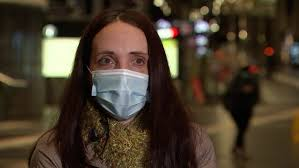FaceMask: (91, 68, 150, 119)
